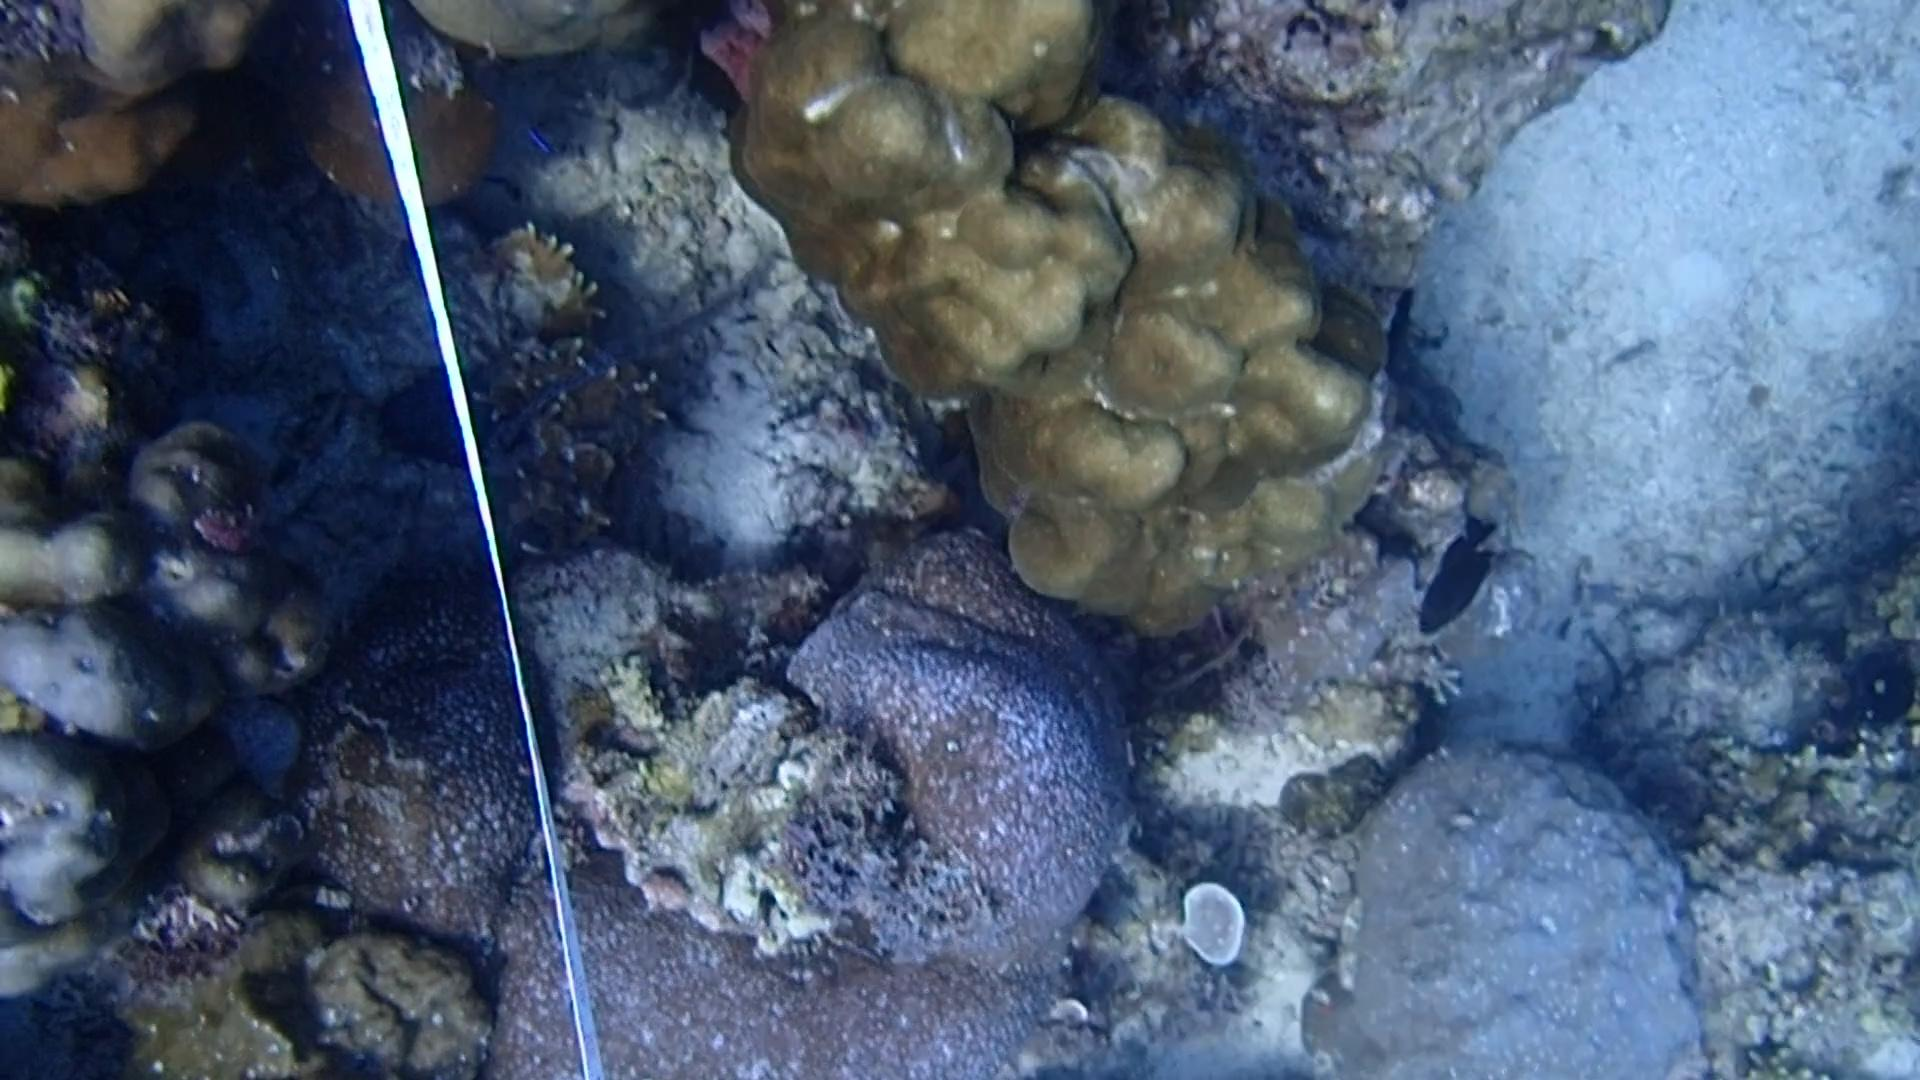Dark Fish: (1418, 517, 1506, 644)
